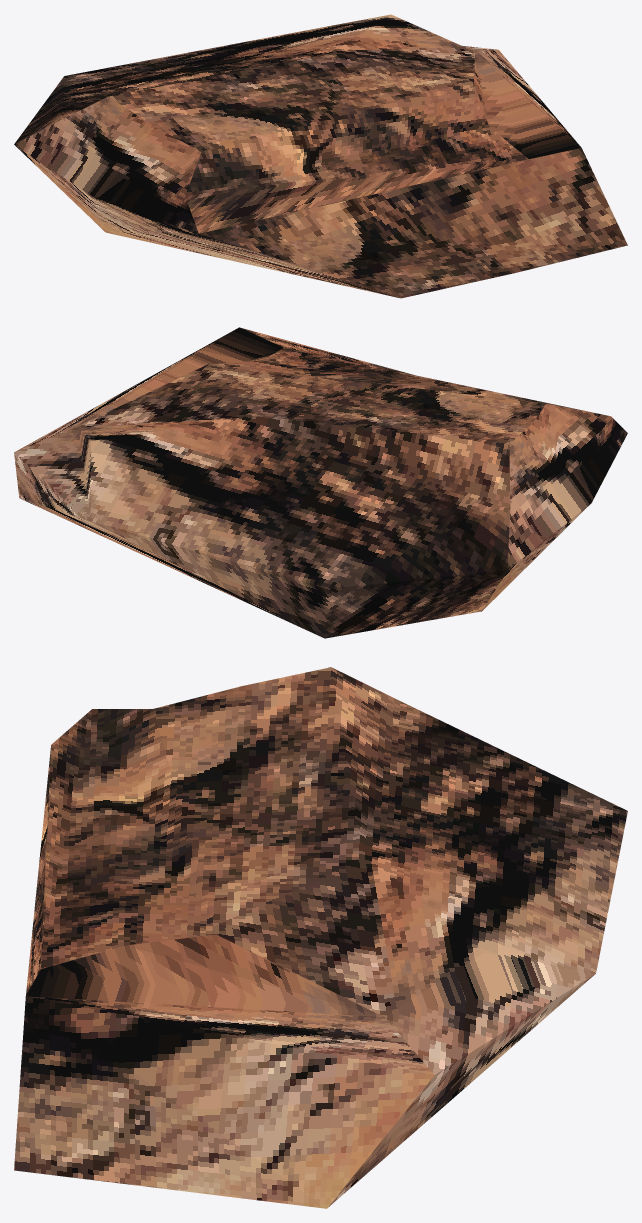
Rendered from stage-gran-p4-9.glb.
The picture shows the model from 3 angles, top to bottom: view 1: azimuth 30°, elevation 25°; view 2: azimuth 150°, elevation 25°; view 3: azimuth 270°, elevation 25°; orthographic projection. The views are drawn at different scales.
Size of the model in its own units: 22.46 by 7.6 by 16.9.
Materials: 1 (1 with a texture image).
